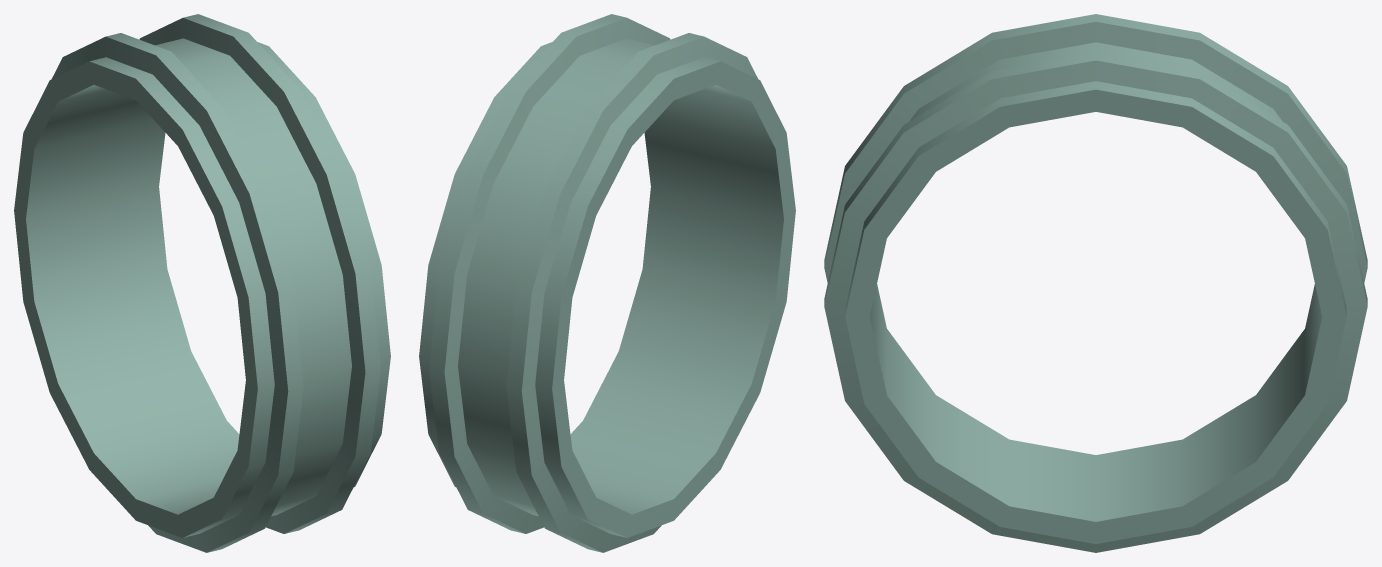
Rendered from PipeLarge_Connector_04_Hollow.fbx.
The picture shows the model from 3 angles, left to right: view 1: azimuth 30°, elevation 25°; view 2: azimuth 150°, elevation 25°; view 3: azimuth 270°, elevation 25°; orthographic projection. The views are drawn at different scales.
Parts seen in each view (by area): view 1: PipeLarge_Connector_04_Hollow.001; view 2: PipeLarge_Connector_04_Hollow.001; view 3: PipeLarge_Connector_04_Hollow.001.
Boxes of the visible parts, x1,y1,x2,y2 form: PipeLarge_Connector_04_Hollow.001: (14,14,390,552); PipeLarge_Connector_04_Hollow.001: (419,14,795,552); PipeLarge_Connector_04_Hollow.001: (824,14,1367,552).
Bounding box in the file's own units: 0.0679 × 0.2334 × 0.2334.
